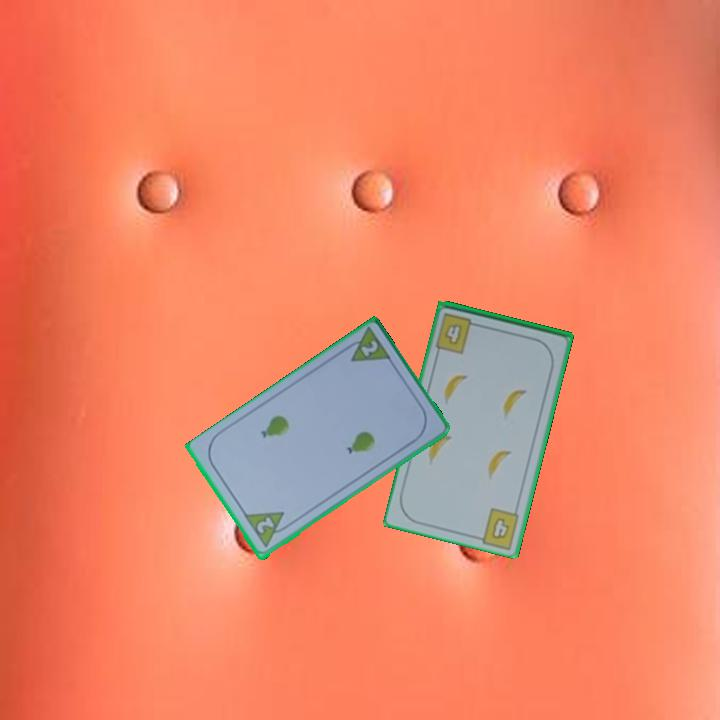2p: (241, 508, 294, 551), (357, 337, 381, 360)
4b: (432, 310, 483, 356), (488, 514, 512, 542)
